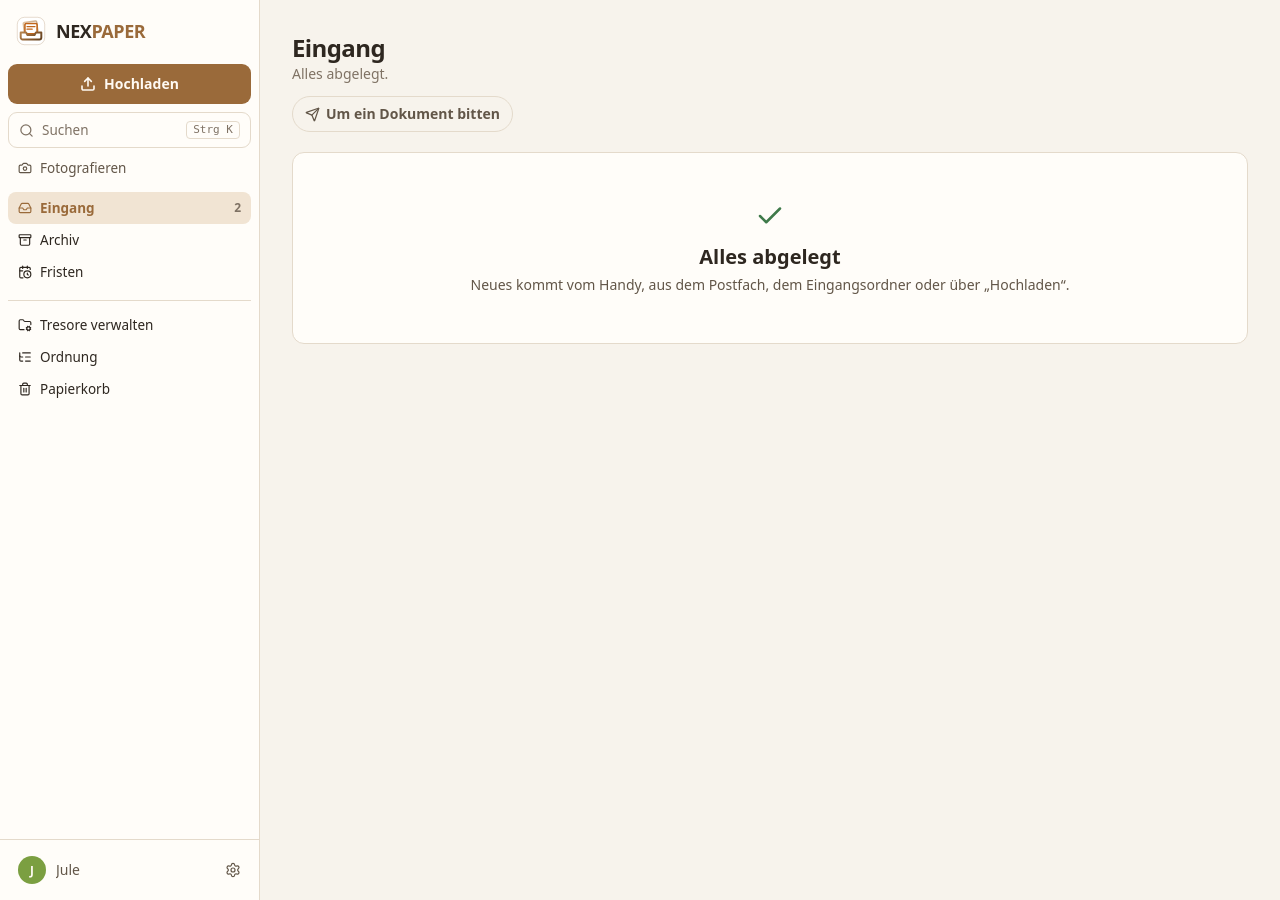
Scenario: after the sign-in › opens on the inbox when something waits there, once per visit, and the menu still reaches the archive
Click the link to "/".
click(81, 31)  # box [16,16,145,46]
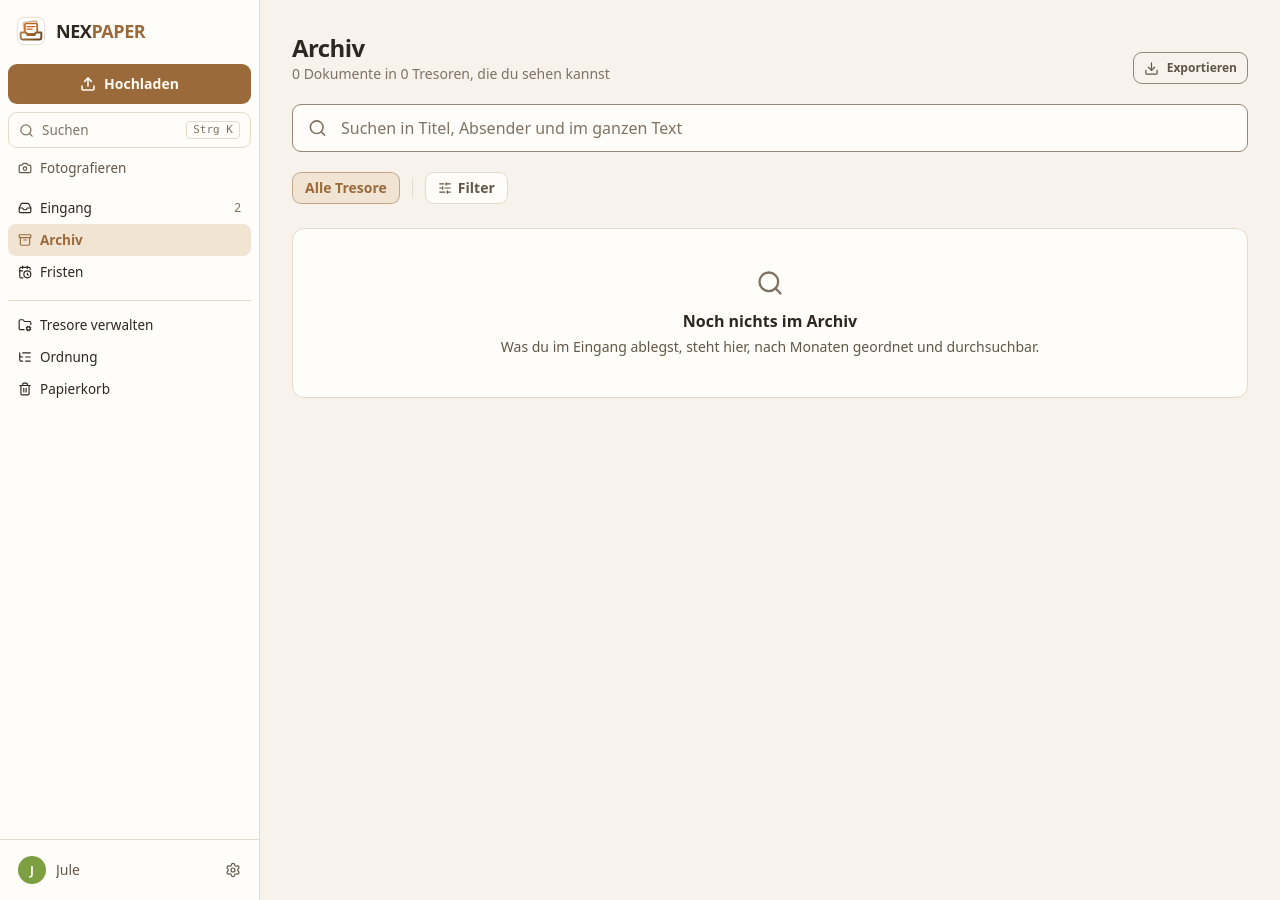
Check: the heading "Archiv" is shown, box [292,31,364,64]
